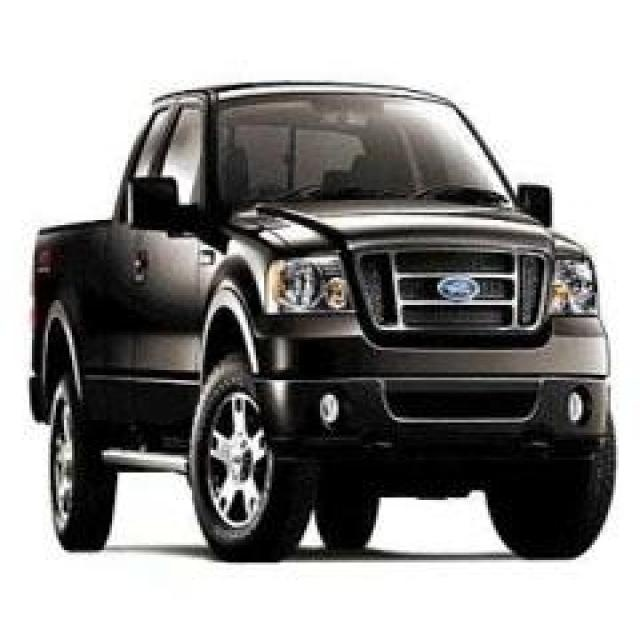car: (11, 45, 640, 585)
